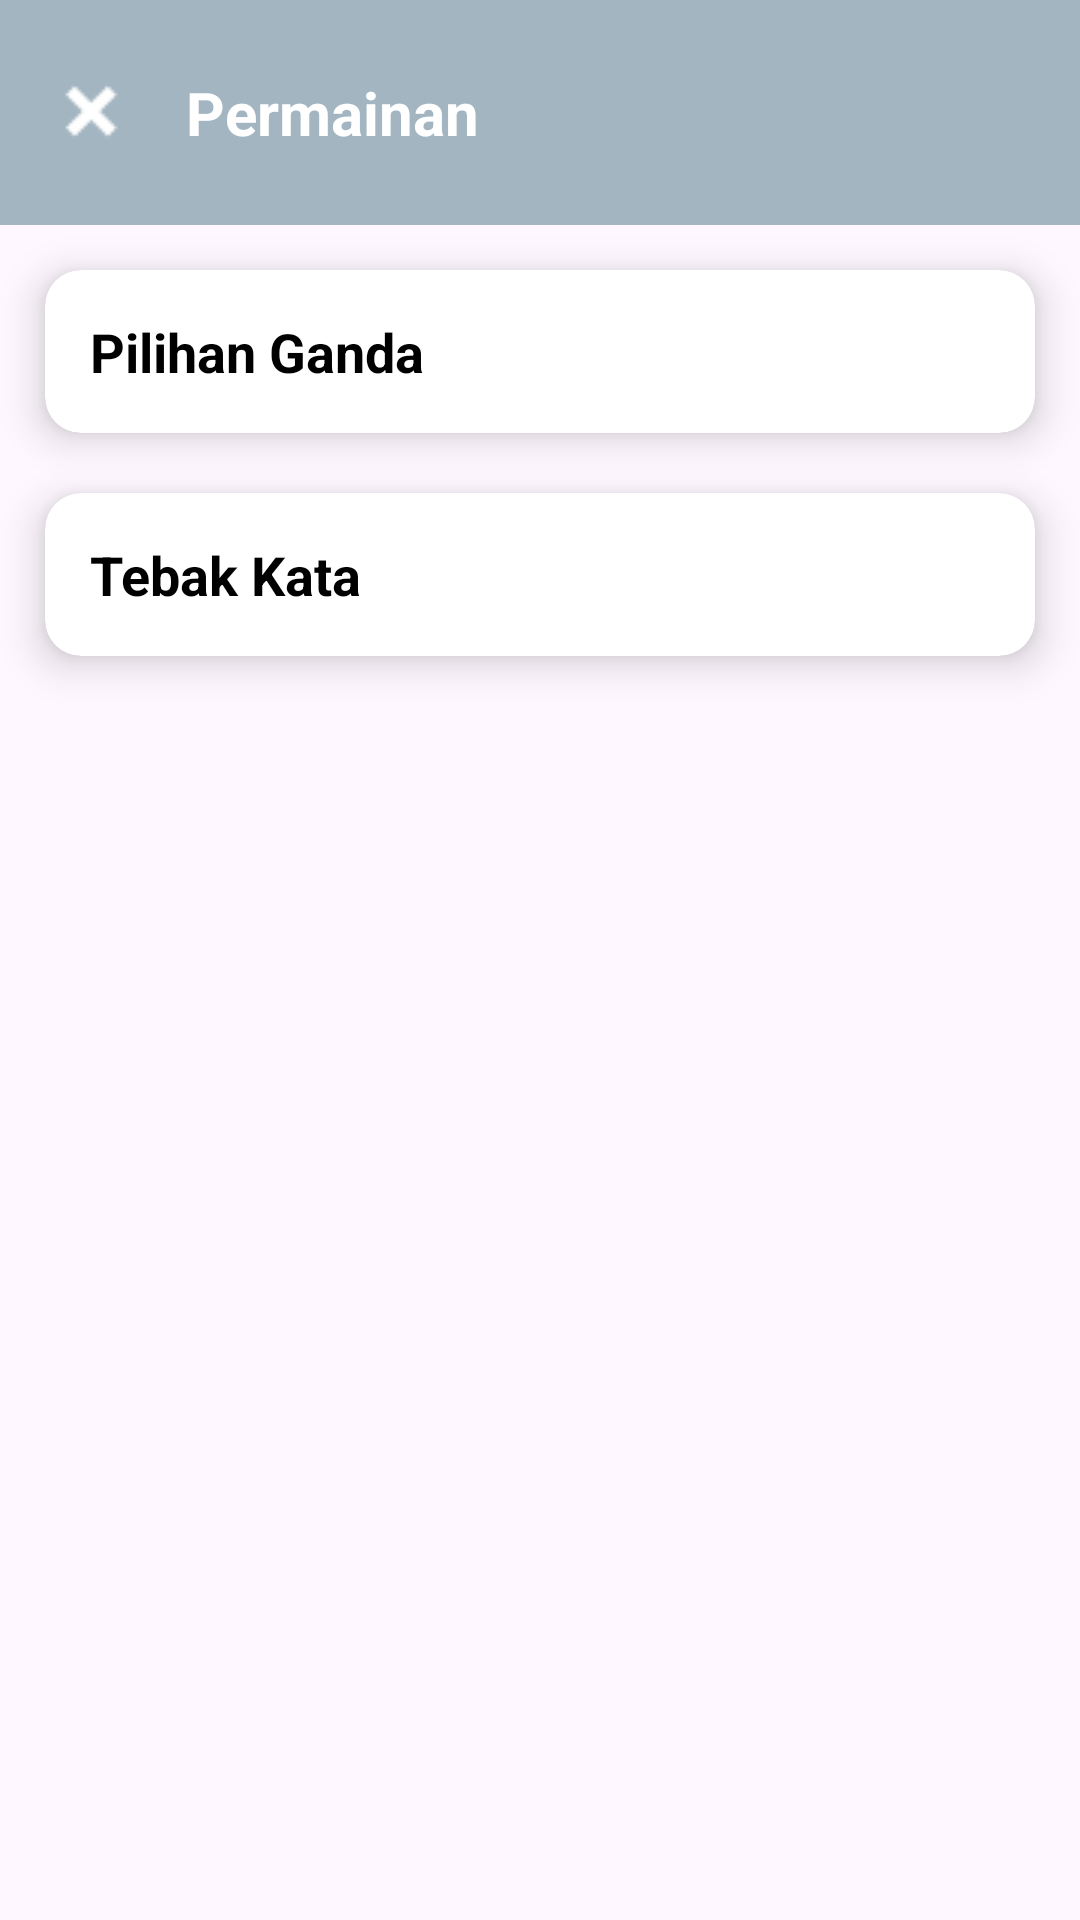

Point at icon controls on the screen. Image size 1080 × 1920, points as point (x, y).
close: point (91, 111)
